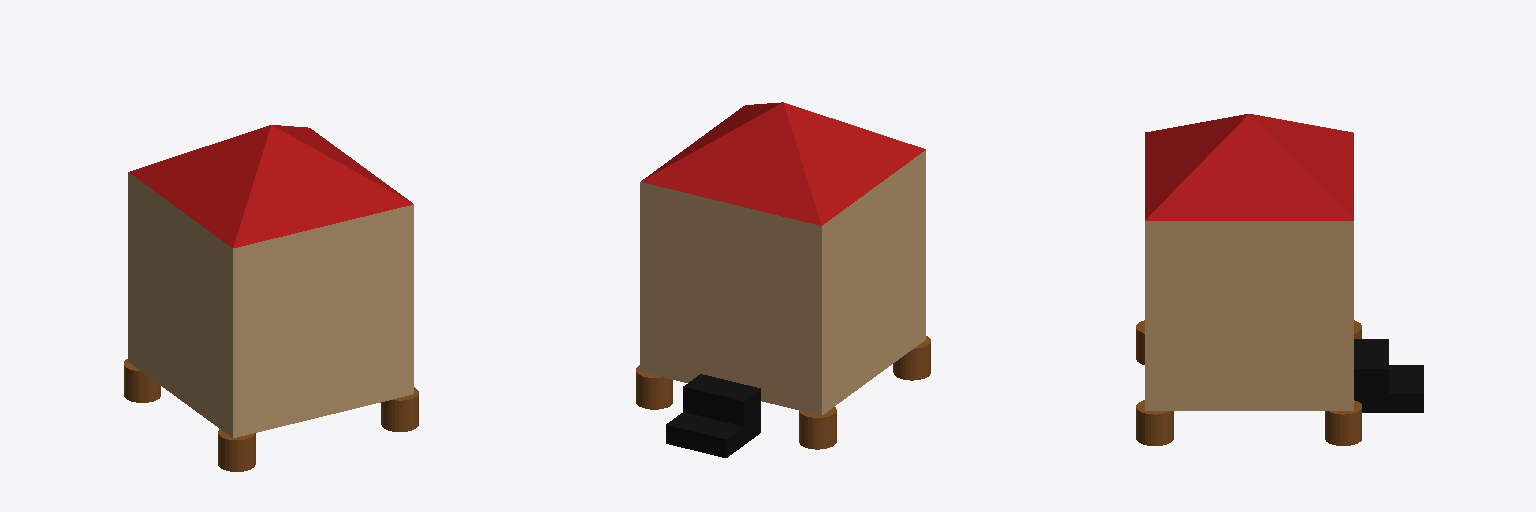
Rendered from BStorage.obj.
3 views of the same model, side by side, from view 1: azimuth 30°, elevation 25°; view 2: azimuth 150°, elevation 25°; view 3: azimuth 270°, elevation 25° (orthographic).
Parts seen in each view (by area): view 1: Storage; view 2: Storage; view 3: Storage.
Part boxes in pixels (x1,y1,x2,y2): Storage: (124,125,418,471); Storage: (636,102,930,457); Storage: (1136,114,1423,445).
Bounding box in the file's own units: 3.24 × 4.5 × 4.12.